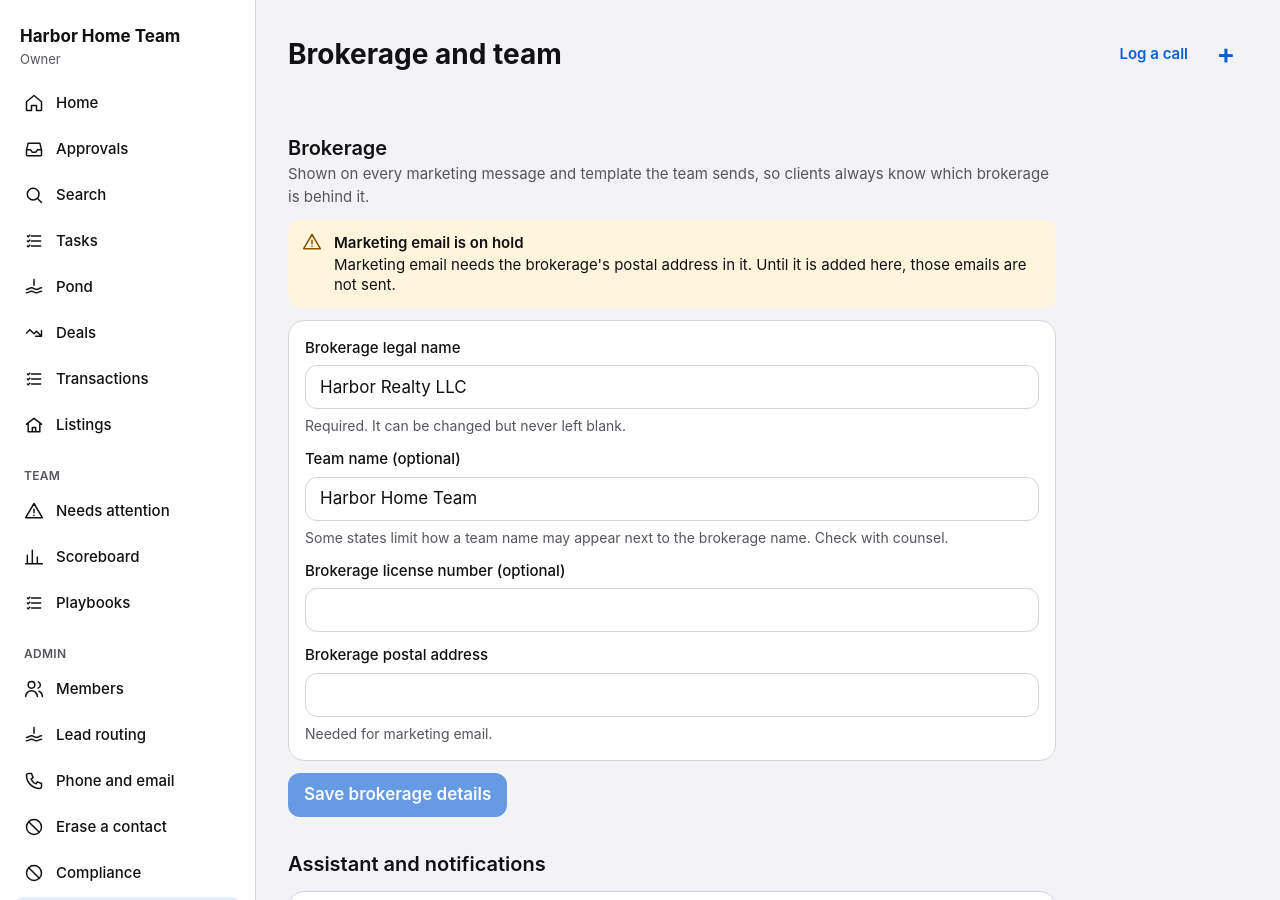
Test: Brokerage and team settings › the Owner saves only the changed identity fields with the settings version; the legal name cannot be blank
The image size is (1280, 900).
Expected: the button "Save brokerage details" is disabled, [288, 773, 507, 817]
In the field labelled "Brokerage postal address": [672, 695] box [305, 673, 1039, 717], type "1 Harbor Way, Oakland CA 94607"
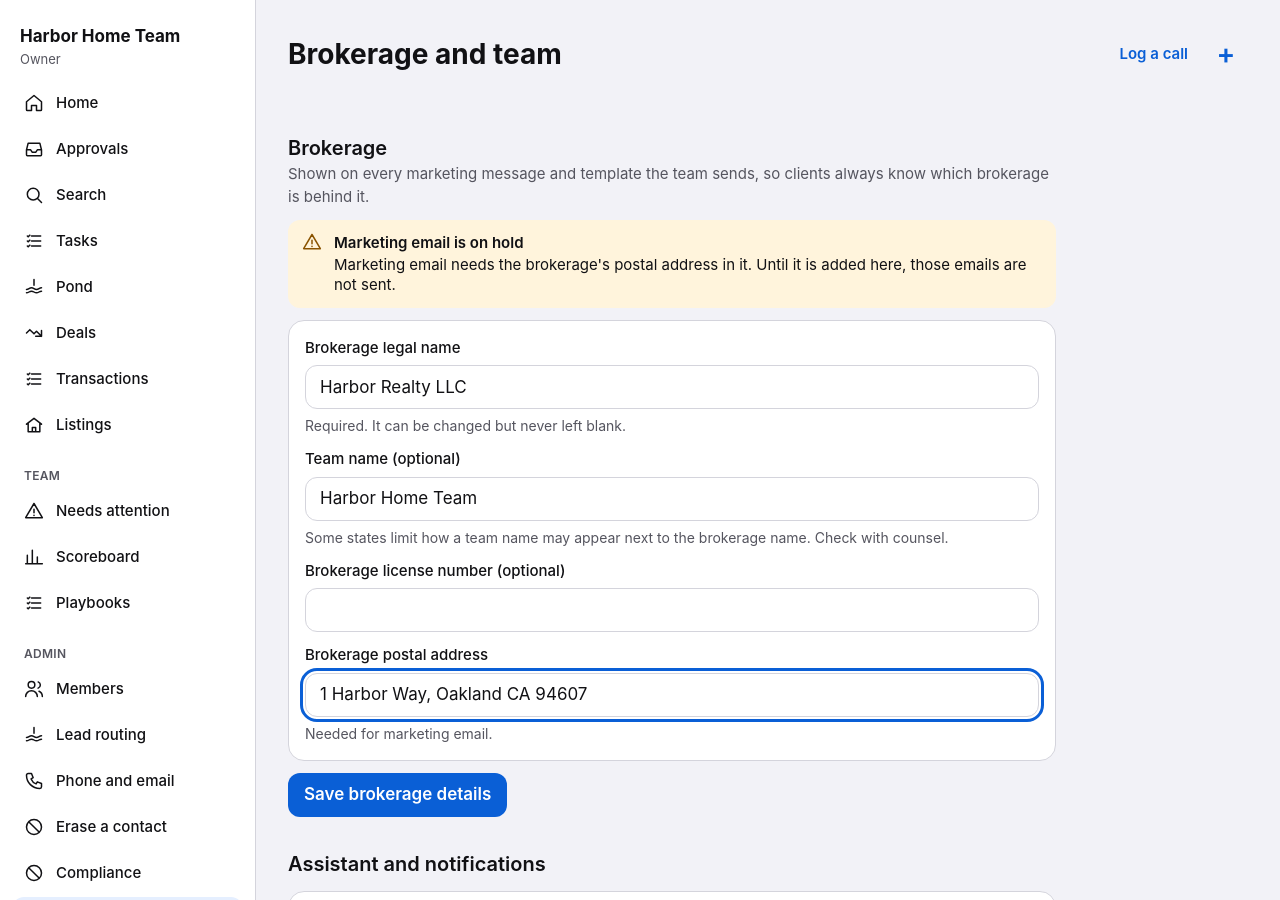
Click the button "Save brokerage details": [398, 795] box [288, 773, 507, 817]
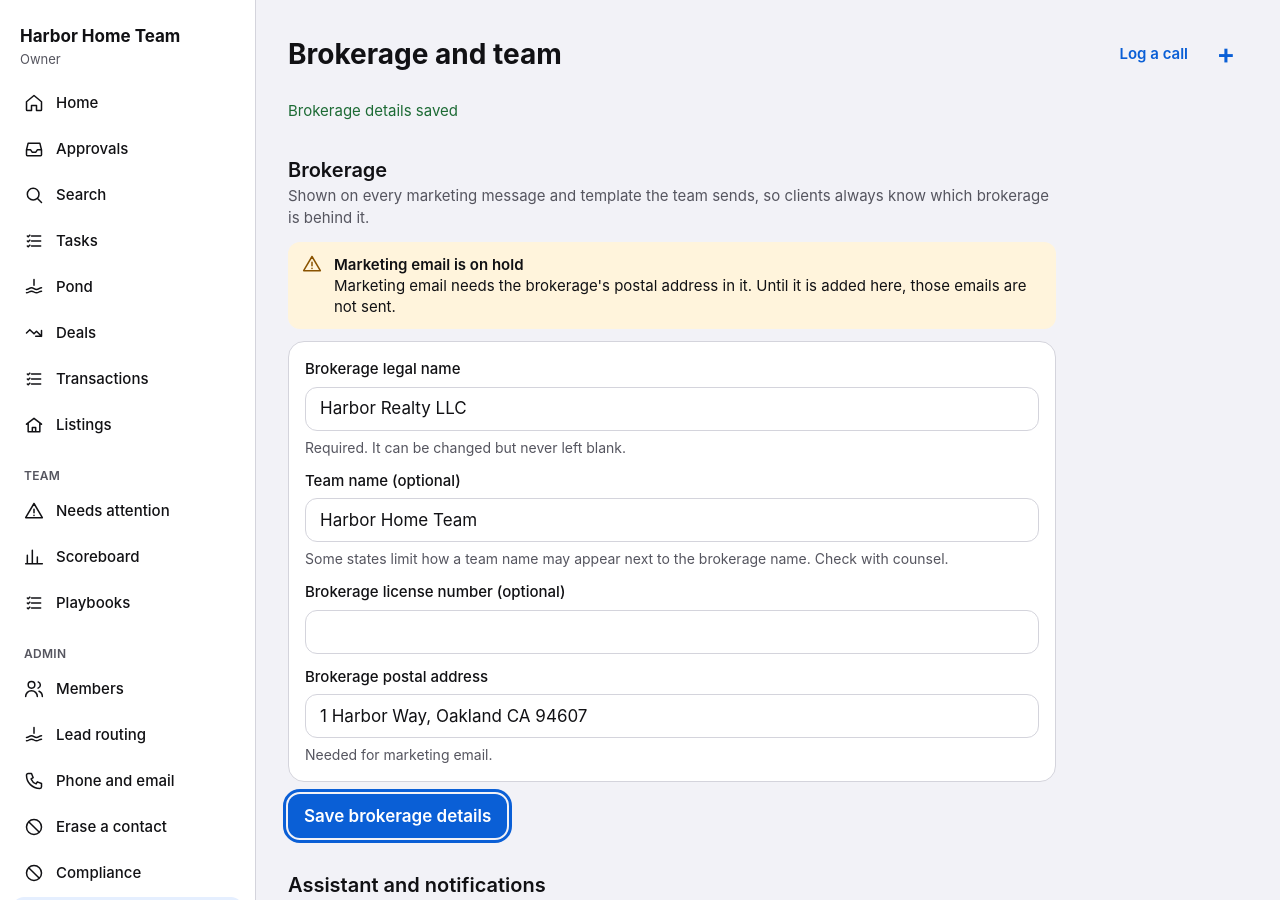
Clear the field labelled "Brokerage legal name": [672, 409] box [305, 387, 1039, 431]
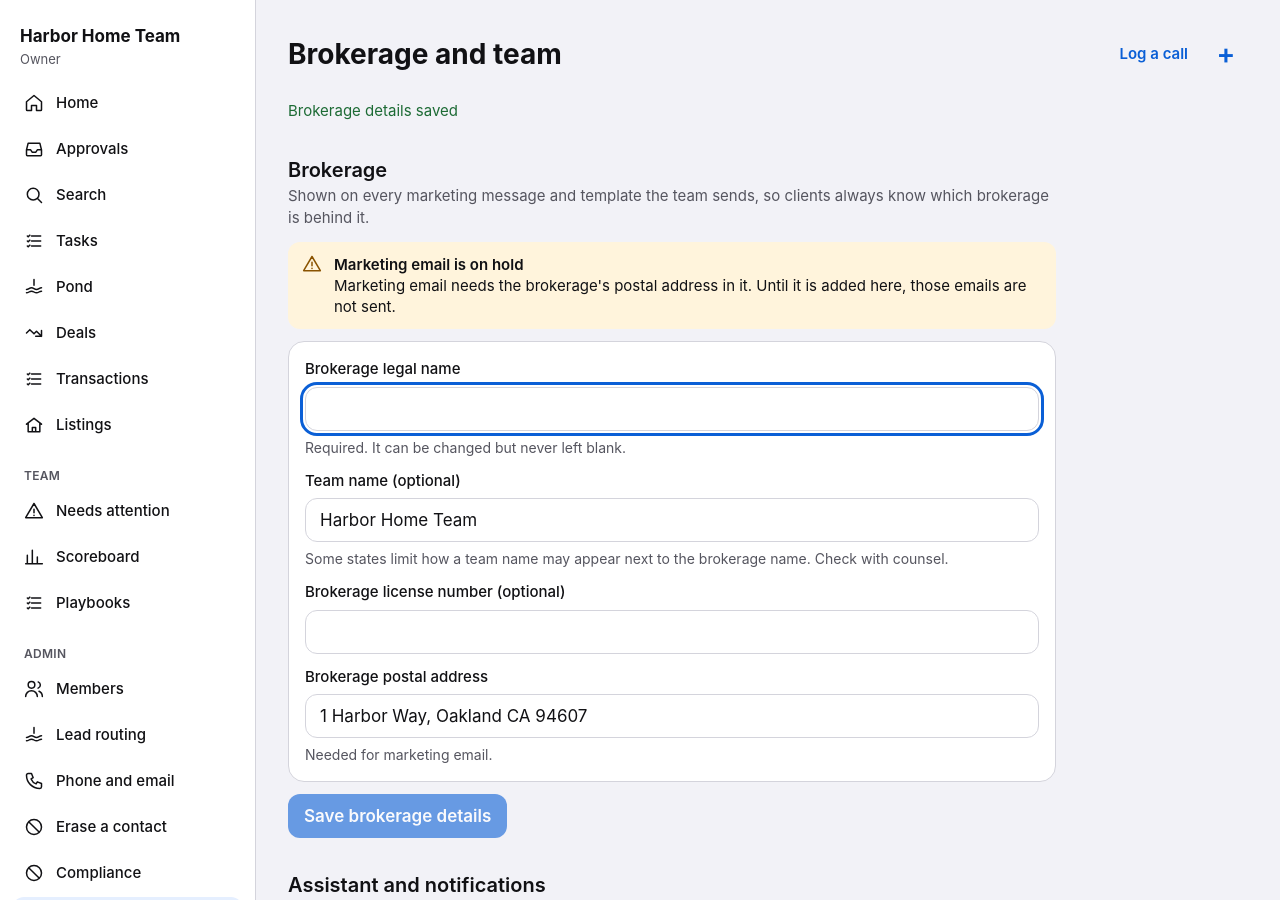
Expected: the button "Save brokerage details" is disabled, [288, 794, 507, 838]
